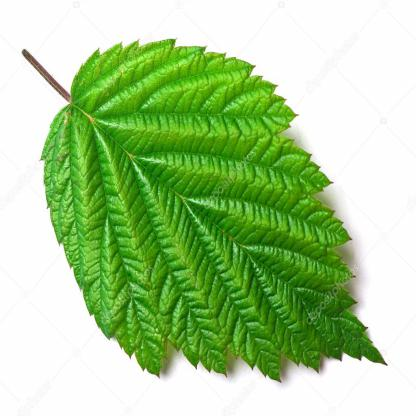raspberry leaf: (40, 40, 392, 383)
